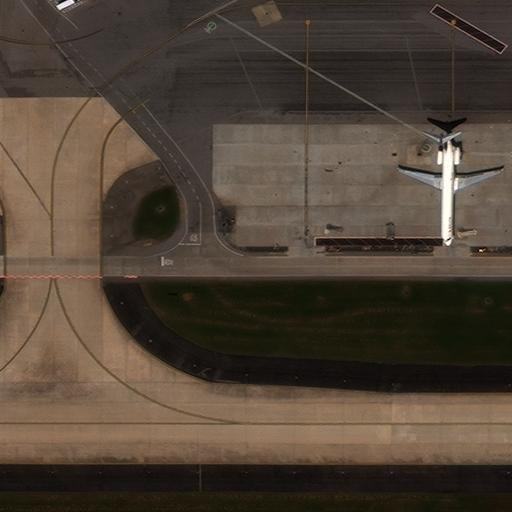Medium Civil Transport: (396, 130, 503, 249)
